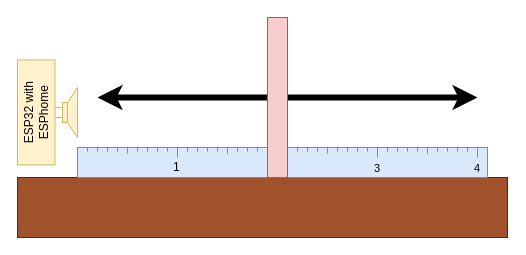
This 526x255 diagram has some shape labels left out. Each missing label, with the centre of its shape:
Obstacle (200 x 300 mm²): point 277,97
Workbench: point 262,207
